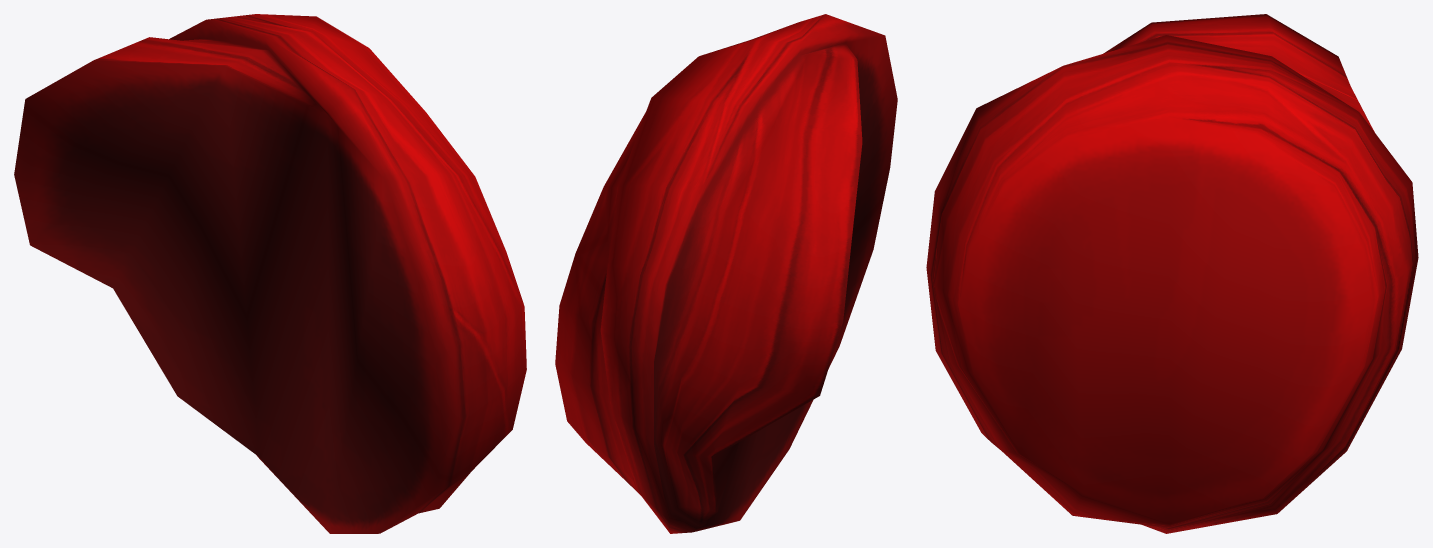
The picture shows the model from 3 angles, left to right: view 1: azimuth 30°, elevation 25°; view 2: azimuth 150°, elevation 25°; view 3: azimuth 270°, elevation 25°; orthographic projection. The views are drawn at different scales.
Visible parts, largest first — view 1: B1230; view 2: B1230; view 3: B1230.
Boxes of the visible parts, box(x1,y1,x2,y2) form: B1230: box(14, 14, 526, 533); B1230: box(555, 14, 897, 533); B1230: box(926, 14, 1418, 533).
Size of the model in its own units: 0.2569 by 0.3869 by 0.3673.
